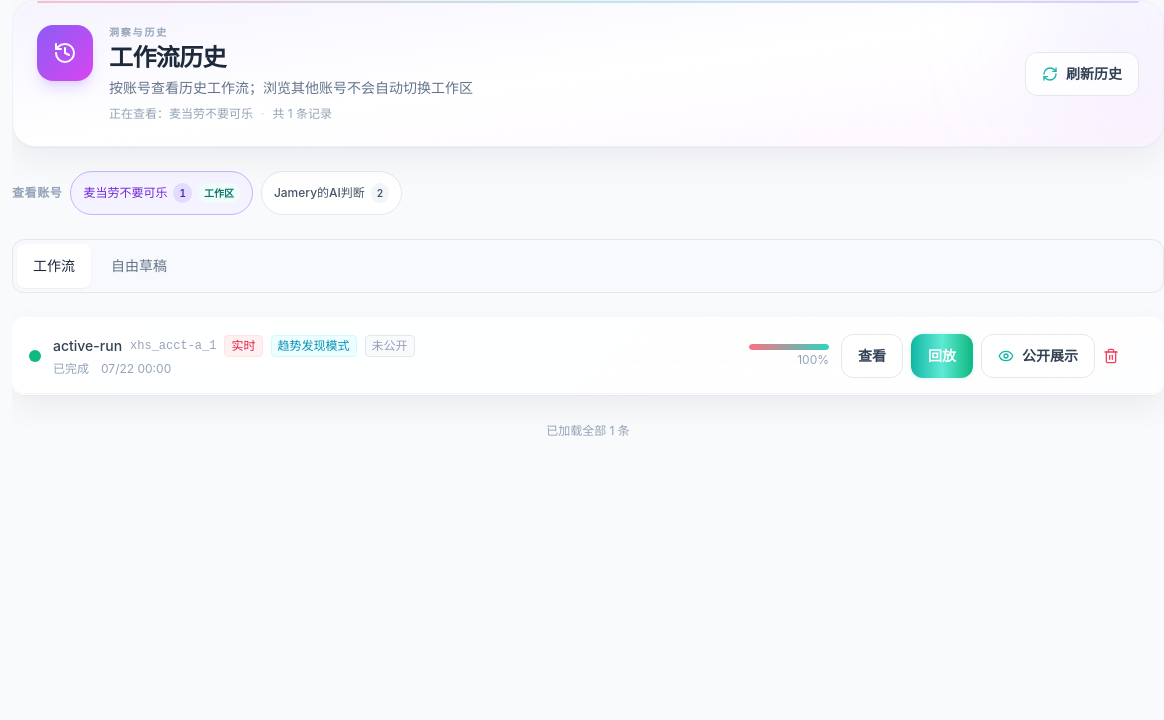
Test: History view › browses another account locally without changing workspace active account
Click the button "Jamery的AI判断 2" at (332, 193), box left=261, top=171, right=402, bottom=215
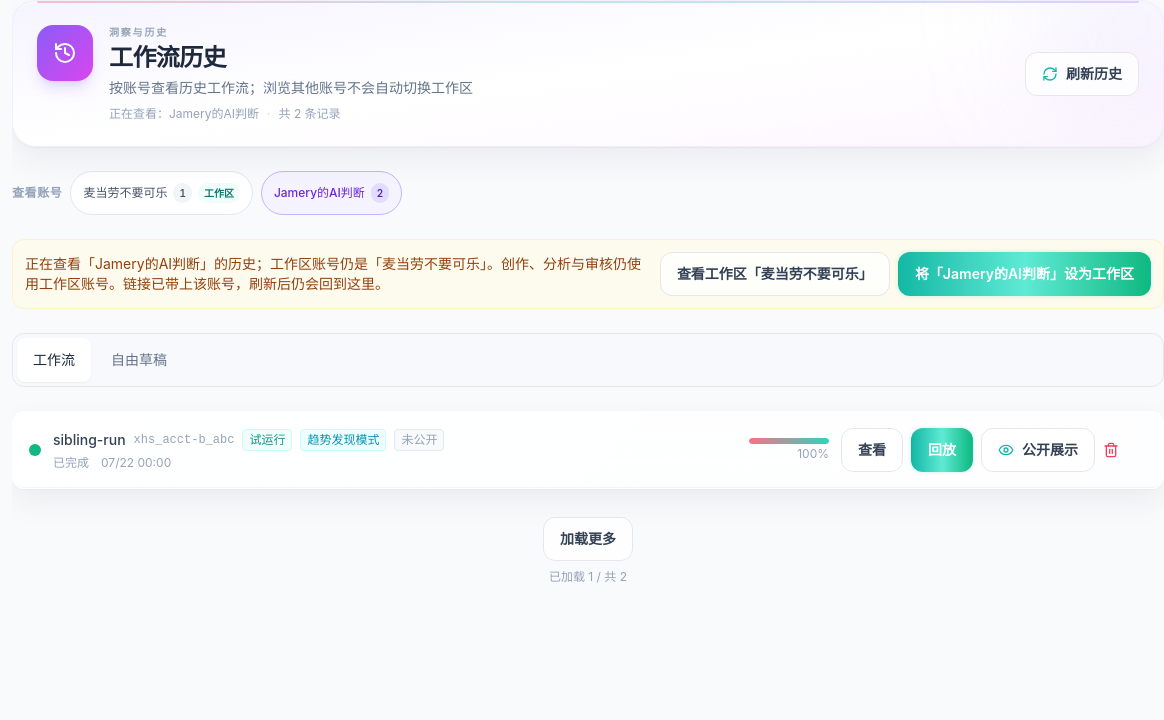
Now the text "sibling-run" is shown, box left=53, top=430, right=126, bottom=450
